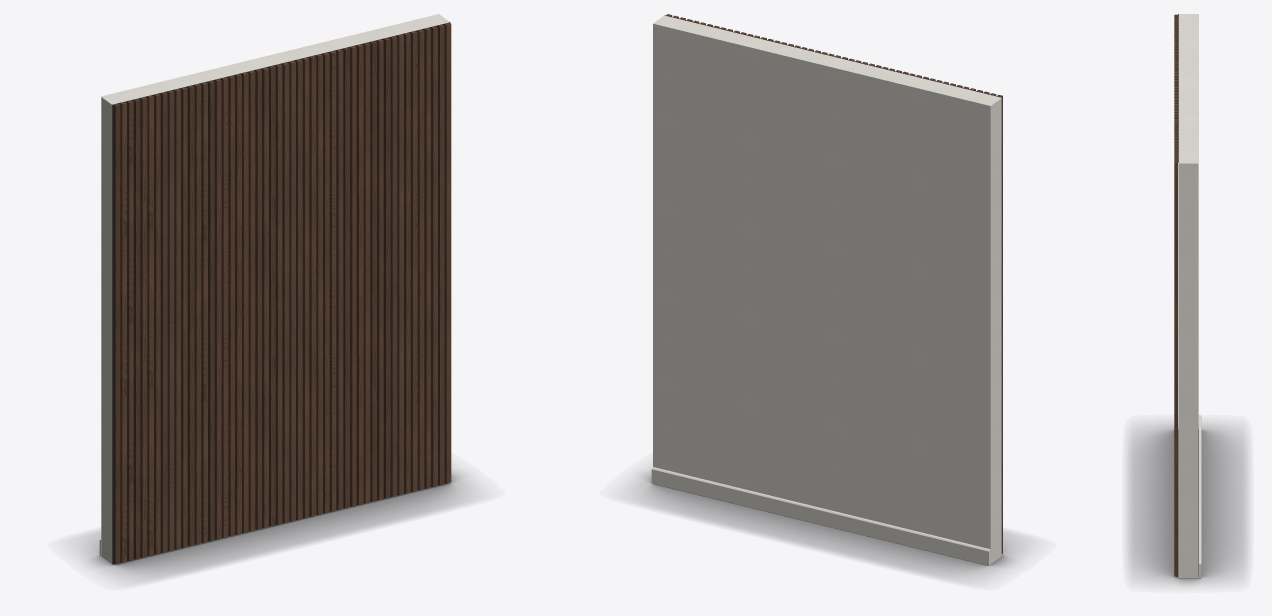
File: wall_slat.glb
3 views of the same model, side by side, from view 1: azimuth 30°, elevation 25°; view 2: azimuth 150°, elevation 25°; view 3: azimuth 270°, elevation 25° (orthographic). The views are drawn at different scales.
Parts seen in each view (by area): view 1: wall_slat_LOD0, wall_slat_Shadow; view 2: wall_slat_LOD0, wall_slat_Shadow; view 3: wall_slat_LOD0, wall_slat_Shadow.
Part boxes in pixels (x1,y1,x2,y2): wall_slat_LOD0: [99, 14, 451, 564]; wall_slat_Shadow: [81, 470, 472, 579]; wall_slat_LOD0: [651, 14, 1002, 565]; wall_slat_Shadow: [633, 470, 1024, 579]; wall_slat_LOD0: [1174, 14, 1201, 578]; wall_slat_Shadow: [1128, 423, 1246, 585].
Size of what is drawn, in the model's own units: 2.64 by 2.6 by 0.794.
Materials: 5 (4 with a texture image).
